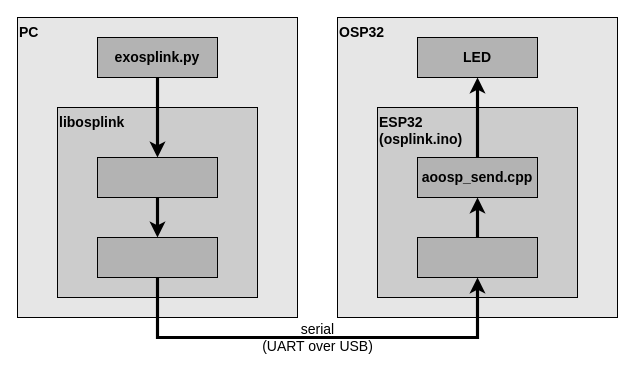
Some shapes in this 635 by 372 pixel diagram are drawn without their labels. Each missing label, with the centre of its shape:
"aocmd_cint.cpp" belongs at point 477,257.
"cmdint.py" belongs at point 157,257.
"osplink.py" belongs at point 157,177.
